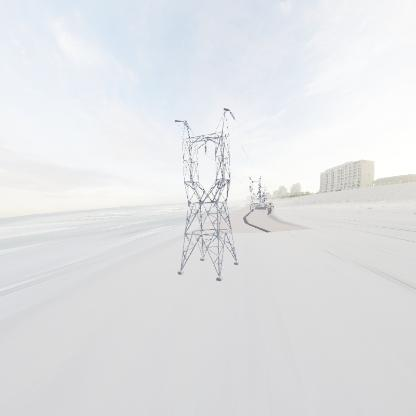tower: (169, 106, 241, 284)
